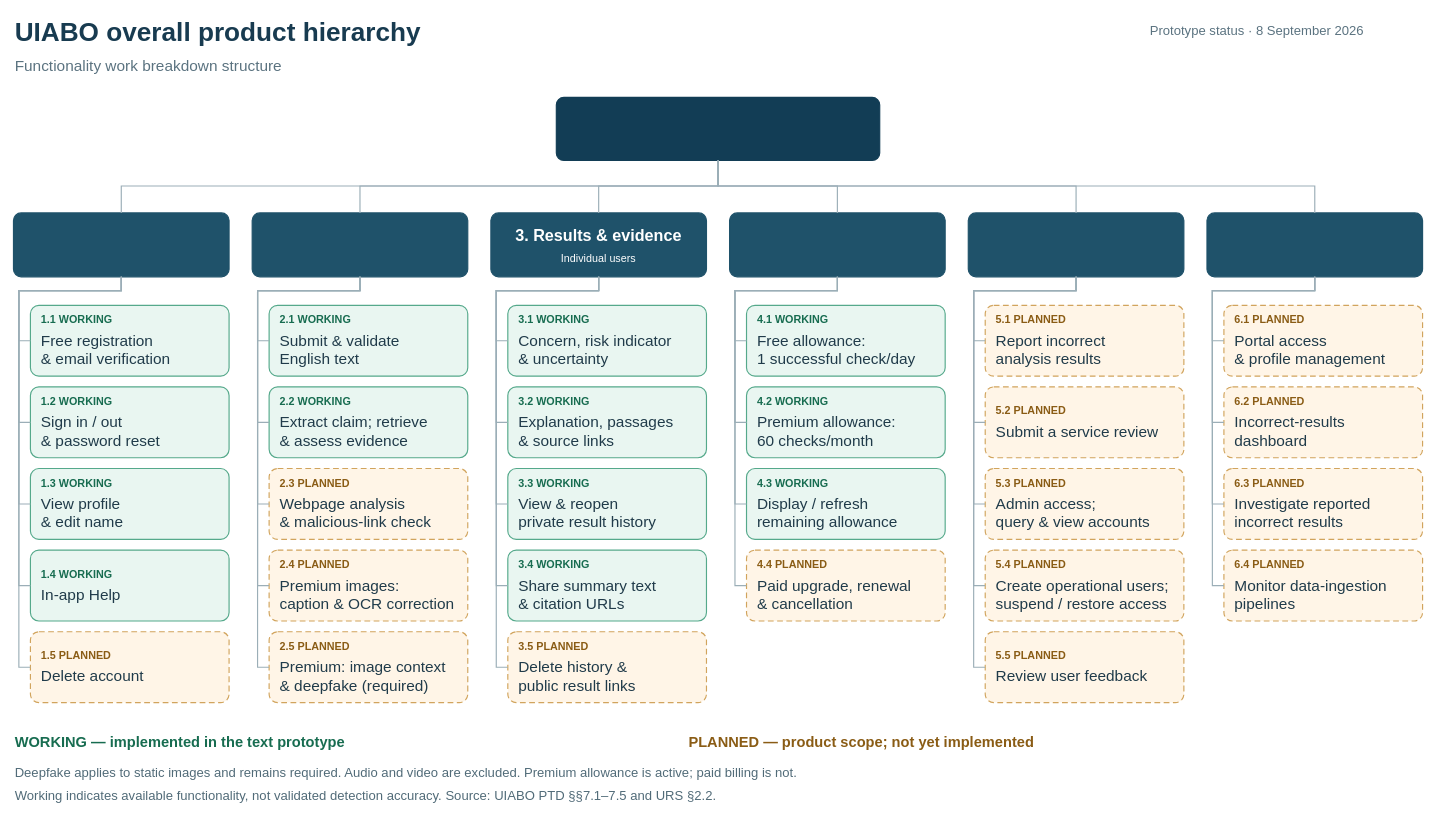
The diagram is 1437 pixels wide and 819 high, and some of its shapes have lost their labels. Here are the shapes that lost their labels. From the top down, the box of each, then its label:
(555, 96, 880, 161): uiabo AI misinformation detection for short-form content
(13, 212, 229, 277): 1. Account access Individual users
(251, 212, 468, 277): 2. Content checking Free / Premium
(729, 212, 945, 277): 4. Allowances & plans Free / Premium
(967, 212, 1184, 277): 5. Feedback & admin Users / System administrator
(1206, 212, 1423, 277): 6. Data engineering Data Engineer portal
